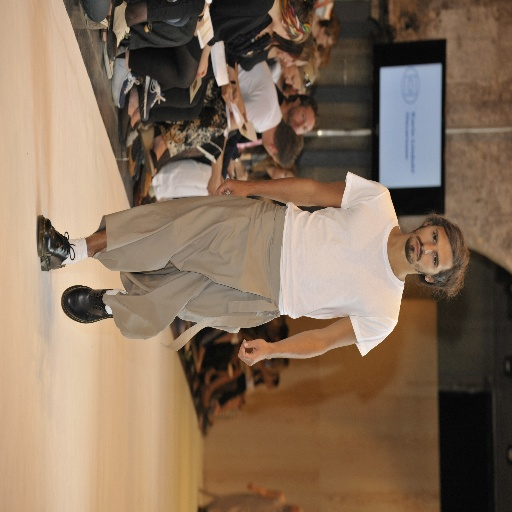hand: (237, 337, 270, 368), (219, 175, 248, 197), (221, 80, 235, 115), (234, 93, 249, 122), (195, 60, 207, 81), (193, 17, 204, 39), (247, 483, 254, 494)
